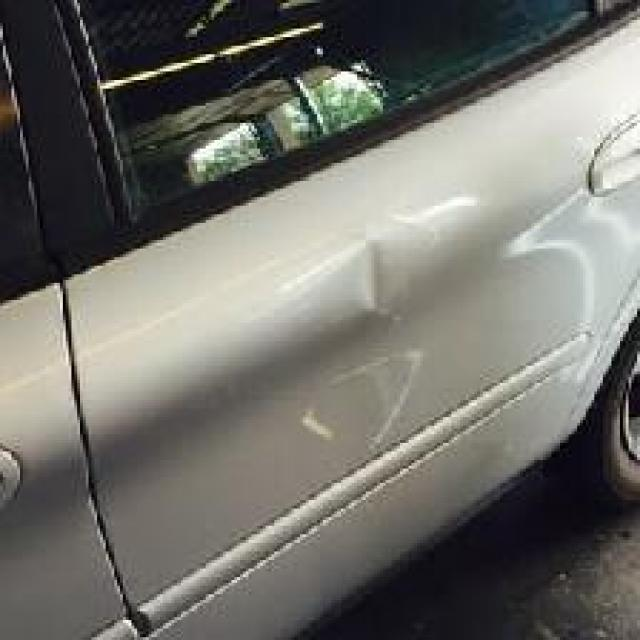damaged: (277, 188, 637, 454)
